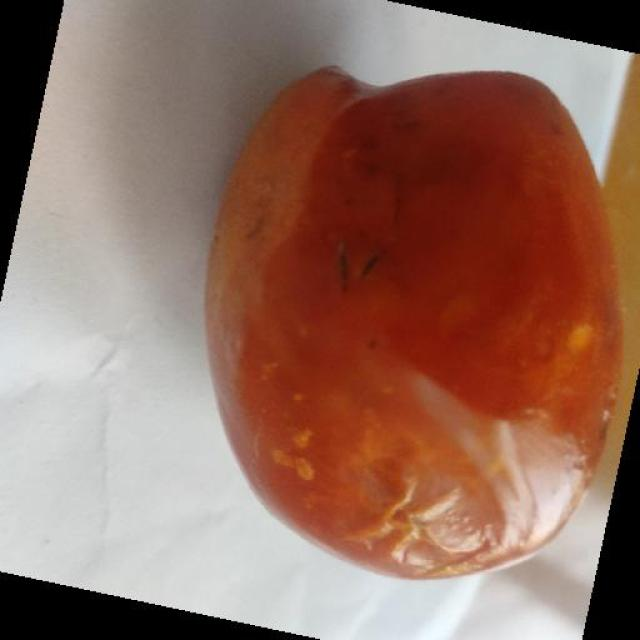Stale_tomato: (250, 45, 628, 586)
